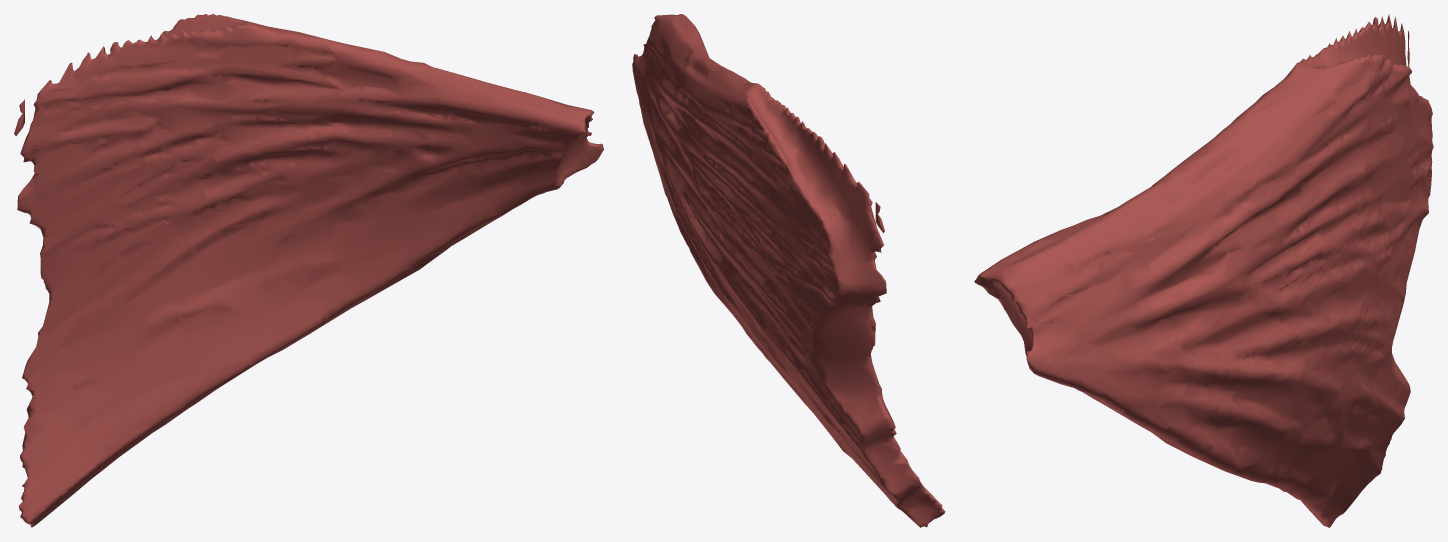
Rendered from FMA46444.glb.
3 views of the same model, side by side, from view 1: azimuth 30°, elevation 25°; view 2: azimuth 150°, elevation 25°; view 3: azimuth 270°, elevation 25° (orthographic). The views are drawn at different scales.
Parts seen in each view (by area): view 1: FMA46444; view 2: FMA46444; view 3: FMA46444.
Part boxes in pixels (left/top/right/bottom): FMA46444: left=14, top=14, right=603, bottom=527; FMA46444: left=632, top=14, right=945, bottom=527; FMA46444: left=974, top=14, right=1433, bottom=527.
Bounding box in the file's own units: 0.0429 × 0.0398 × 0.028.
